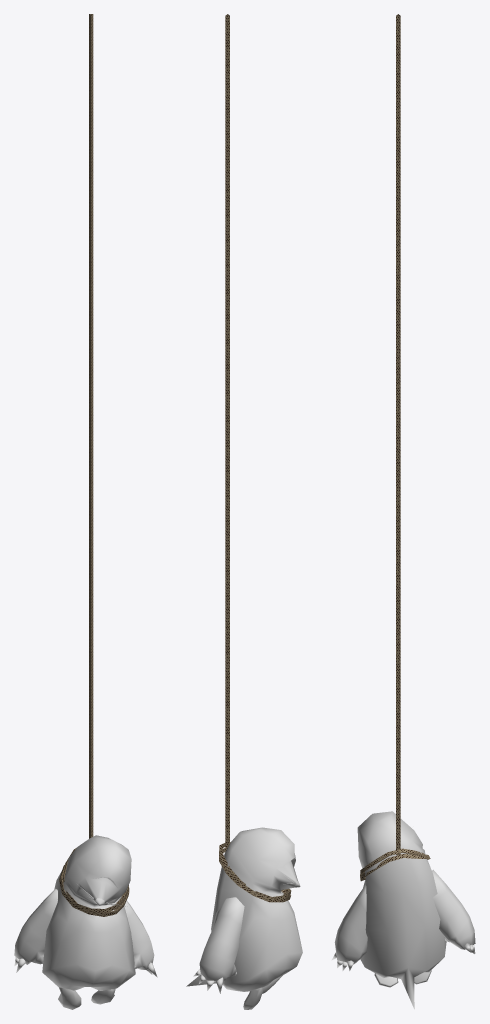
File: JAM_Hanged_Tope.fbx
The picture shows the model from 3 angles, left to right: view 1: azimuth 90°, elevation 25°; view 2: azimuth 150°, elevation 25°; view 3: azimuth 270°, elevation 25°; orthographic projection.
Visible parts, largest first — view 1: Tope_hanged; view 2: Tope_hanged; view 3: Tope_hanged.
Boxes of the visible parts, x1,y1,x2,y2 form: Tope_hanged: (14, 14, 157, 1009); Tope_hanged: (186, 14, 302, 1009); Tope_hanged: (331, 14, 475, 1009).
Size of the model in its own units: 0.9332 by 8.2 by 1.09.
